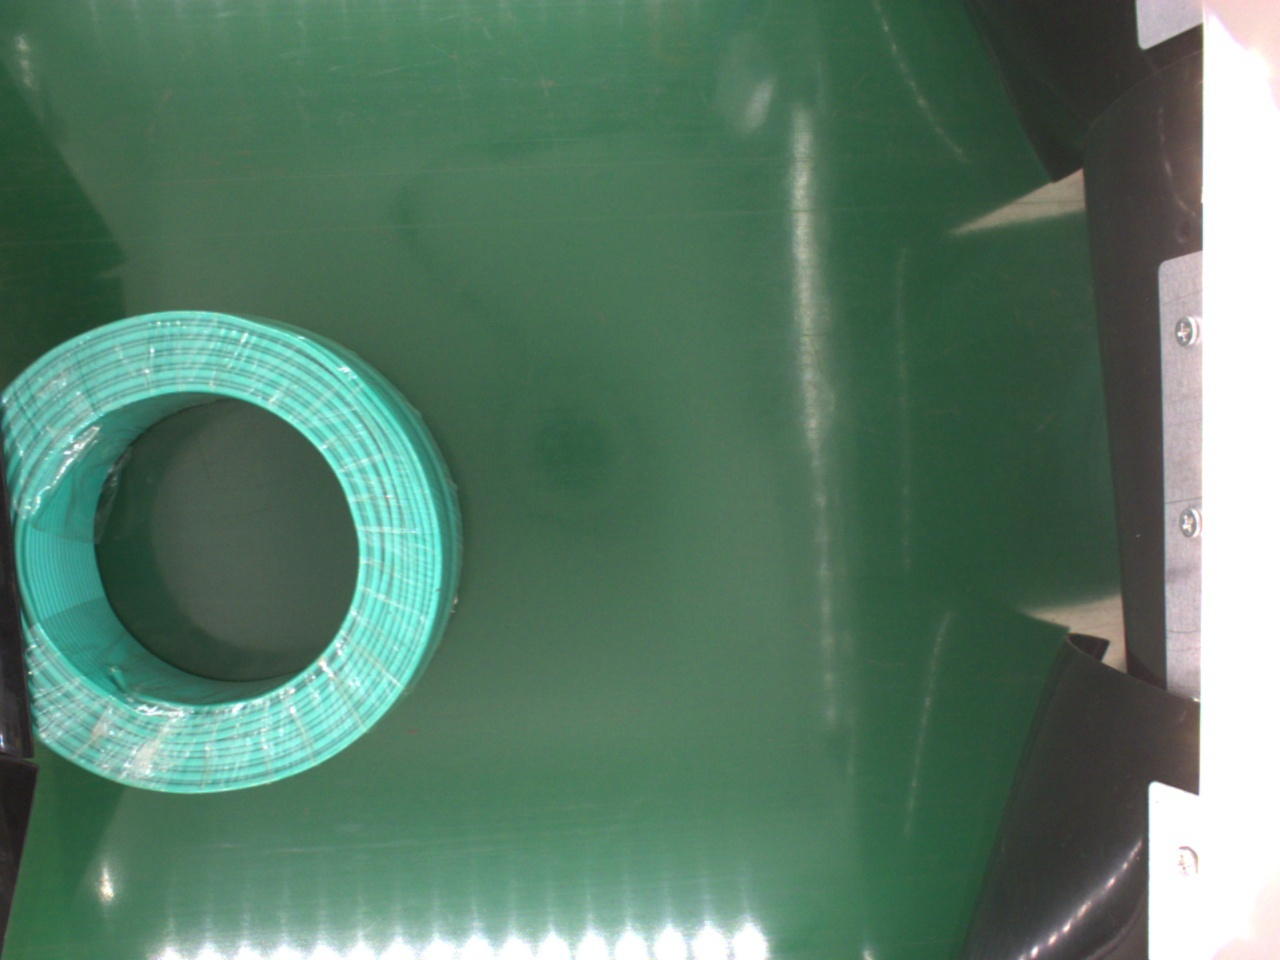green: (23, 305, 461, 799)
